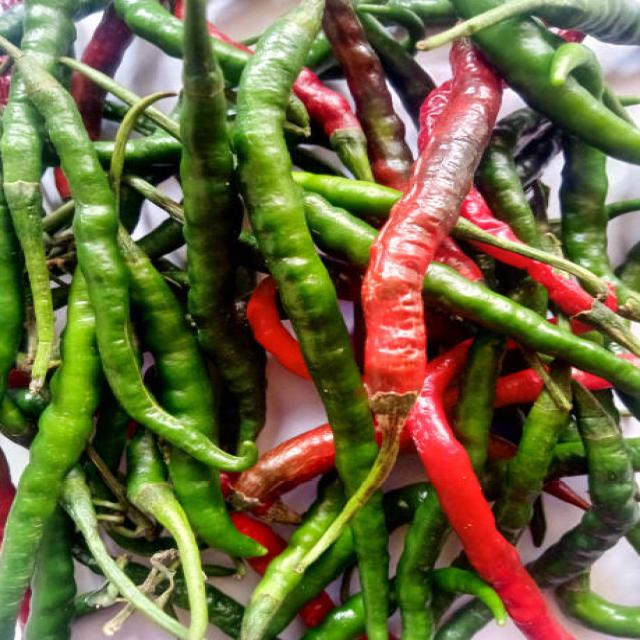Ripe: (420, 346, 615, 640), (363, 41, 501, 436)
Unripe: (17, 55, 255, 471), (228, 0, 376, 492), (170, 0, 264, 470), (0, 295, 98, 620), (424, 262, 639, 392), (474, 15, 639, 163), (526, 401, 636, 589), (120, 246, 216, 442), (240, 492, 337, 639), (495, 380, 576, 528), (264, 527, 354, 639), (169, 447, 258, 555), (480, 108, 544, 248), (397, 487, 446, 639), (455, 332, 505, 477), (559, 139, 608, 276), (347, 494, 388, 639), (303, 188, 376, 267), (555, 570, 639, 637), (293, 172, 400, 216), (436, 600, 491, 639)
